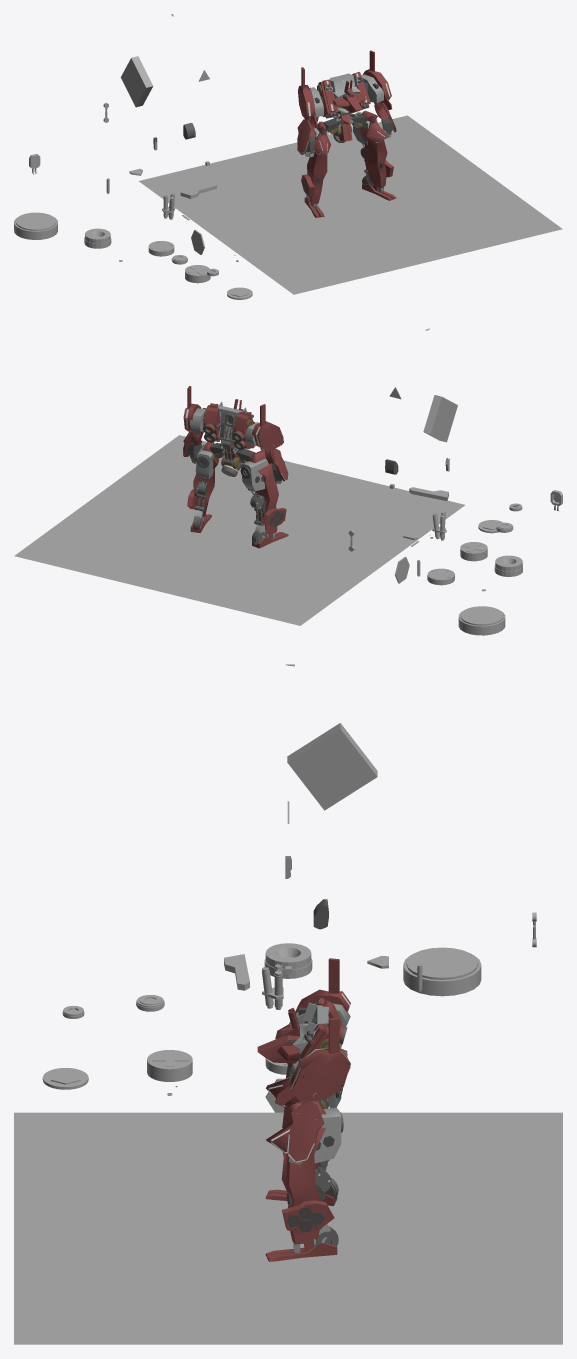
The model's file is Project3.fbx.
3 views of the same model, one above another, from view 1: azimuth 30°, elevation 25°; view 2: azimuth 150°, elevation 25°; view 3: azimuth 270°, elevation 25° (orthographic). The views are drawn at different scales.
Parts seen in each view (by area): view 1: Floor, LegLeft, pCylinder11, ShoulderPart, ShoulderLeft2, pCube5, Cockpit, HandShieldLeft, pCylinder10, pCube1; view 2: Floor, LegLeft, pCylinder11, ShoulderPart, ShoulderLeft2, LapLeft, ShoulderLeft1, pCylinder10, HandShieldLeft, pCube5, pCylinder195, BootLeft (+1 smaller); view 3: Floor, ShoulderPart, pCylinder11, ShoulderLeft2, LegLeft, HandShieldLeft, pCylinder10, LapLeft, pCylinder195, pCube6.
Boxes of the visible parts, x1,y1,x2,y2 form: Floor: (139, 115, 562, 294); LegLeft: (307, 110, 388, 203); pCylinder11: (14, 212, 57, 239); ShoulderPart: (120, 56, 153, 107); ShoulderLeft2: (298, 69, 391, 120); pCube5: (310, 74, 383, 116); Cockpit: (330, 73, 360, 112); HandShieldLeft: (297, 103, 396, 154); pCylinder10: (84, 228, 111, 248); pCube1: (322, 72, 369, 112); Floor: (14, 435, 464, 625); LegLeft: (193, 441, 278, 535); pCylinder11: (458, 606, 505, 635); ShoulderPart: (423, 395, 457, 442); ShoulderLeft2: (183, 403, 283, 451); LapLeft: (195, 444, 268, 490); ShoulderLeft1: (204, 405, 254, 448); pCylinder10: (494, 555, 522, 576); HandShieldLeft: (183, 431, 288, 481); pCube5: (189, 408, 259, 446); pCylinder195: (460, 542, 487, 561); BootLeft: (187, 489, 286, 528); Floor: (14, 1112, 562, 1344); ShoulderPart: (287, 723, 377, 810); pCylinder11: (403, 947, 481, 996); ShoulderLeft2: (288, 989, 350, 1101); LegLeft: (266, 1063, 326, 1244); HandShieldLeft: (287, 1101, 324, 1162); pCylinder10: (264, 943, 312, 978); LapLeft: (314, 1093, 341, 1163); pCylinder195: (147, 1050, 192, 1081); pCube6: (328, 958, 339, 1054).
Bounding box in the file's own units: 39.8 × 20.7 × 24.
